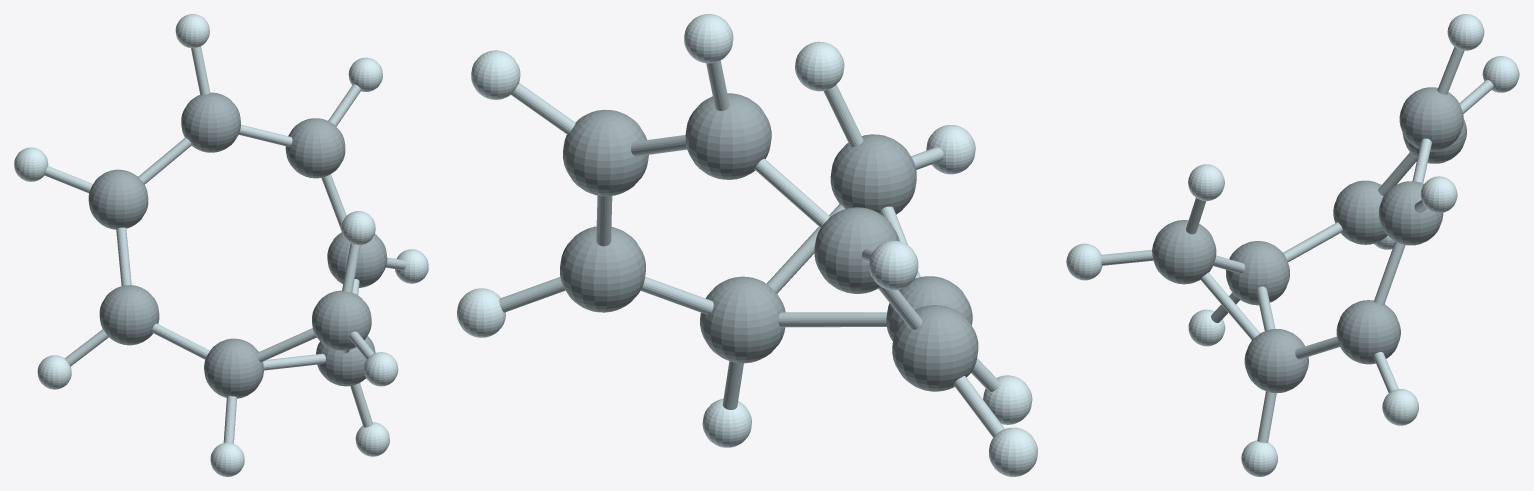
Rendered from irc_step_037.glb.
3 renders of one model, left to right at view 1: azimuth 30°, elevation 25°; view 2: azimuth 150°, elevation 25°; view 3: azimuth 270°, elevation 25°, orthographic. The views are drawn at different scales.
Visible parts, largest first — view 1: Renderer Node; view 2: Renderer Node; view 3: Renderer Node.
Part boxes in pixels (bbox=[...]): Renderer Node: bbox=[14, 14, 428, 476]; Renderer Node: bbox=[457, 14, 1037, 476]; Renderer Node: bbox=[1066, 14, 1519, 476].
Bounding box in the file's own units: 5.27 × 4.99 × 4.92.
